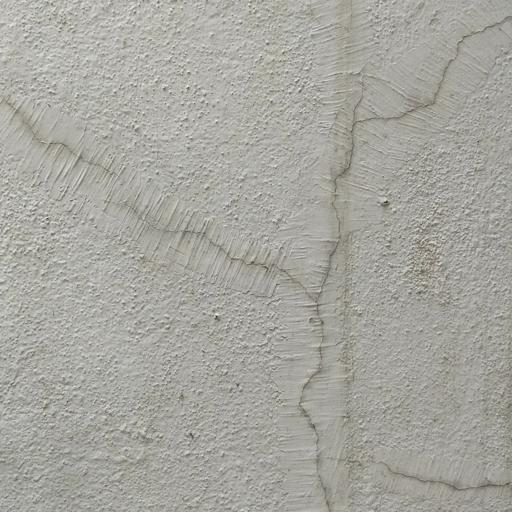minor_crack: (12, 95, 351, 336), (273, 301, 512, 512), (328, 7, 512, 182)
